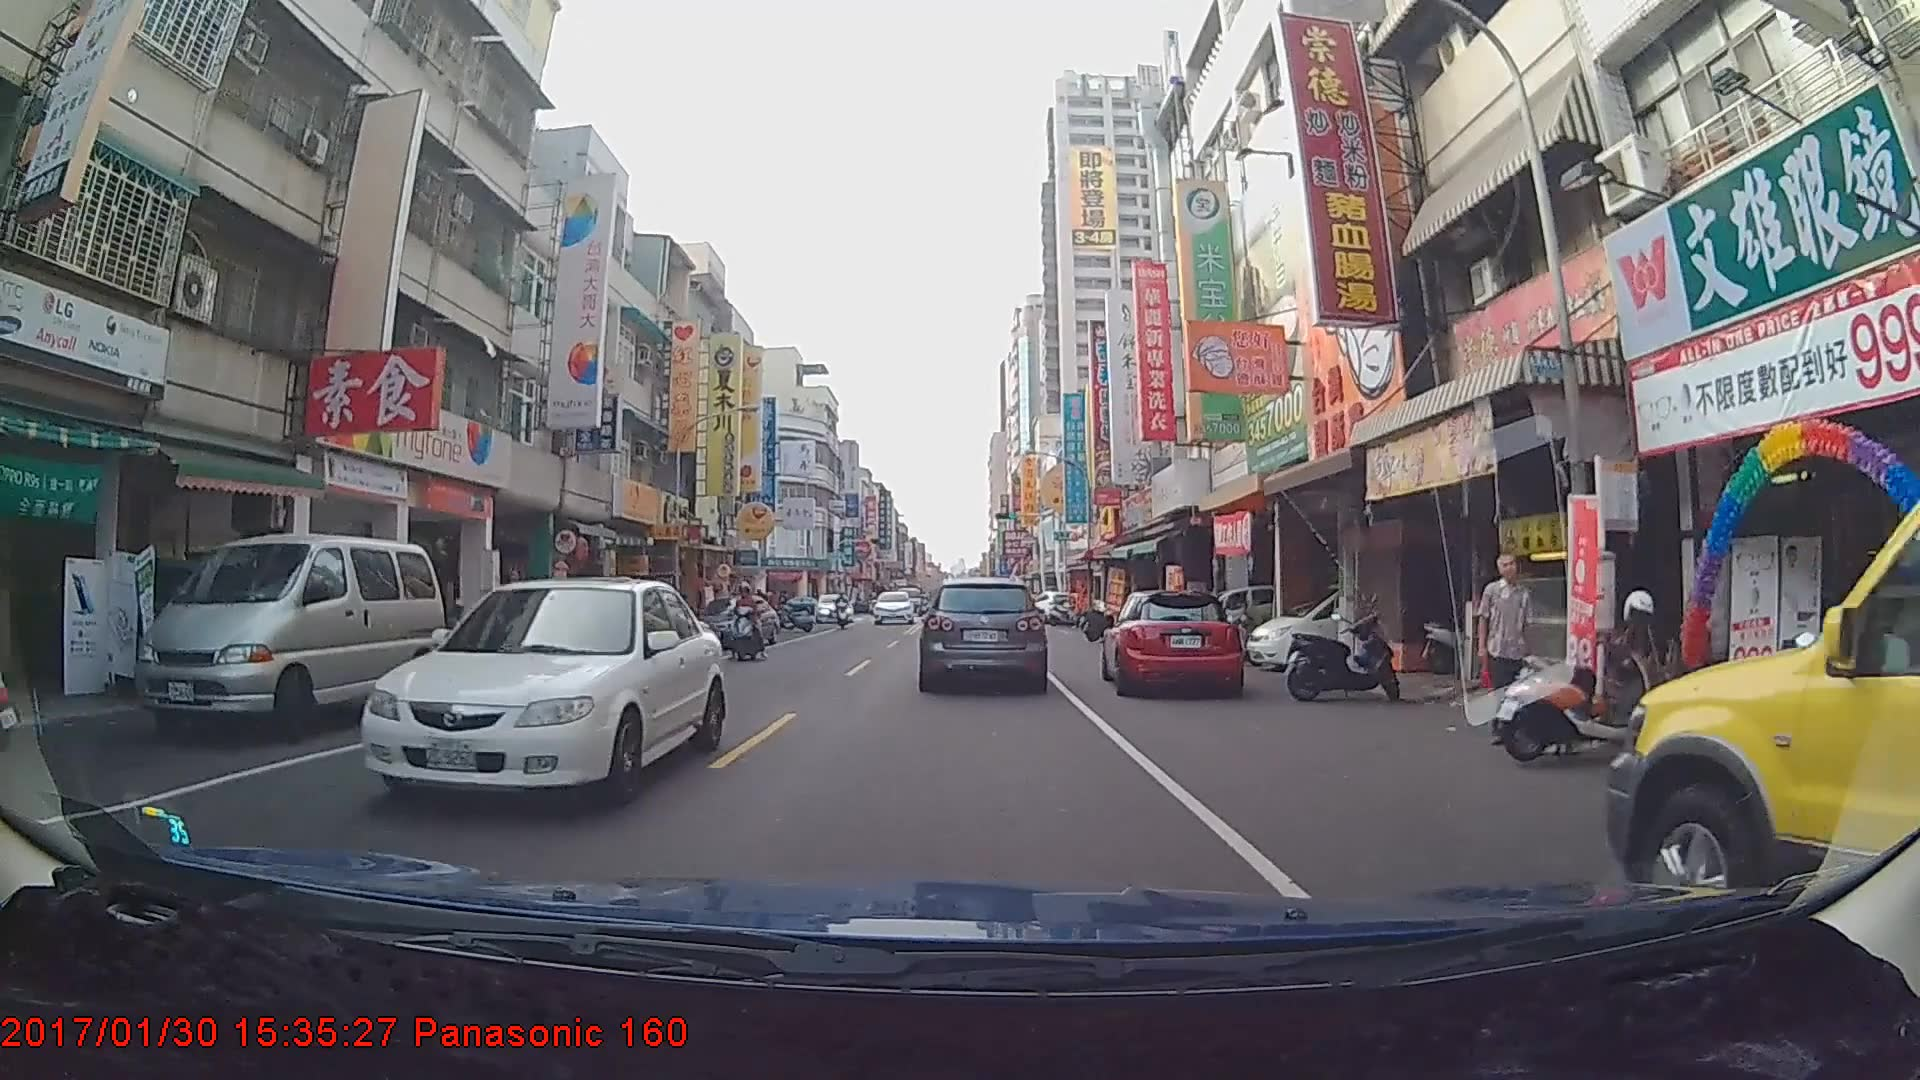pedestrian: (1478, 553, 1540, 747)
rider: (727, 578, 773, 655)
vehicle: (1610, 433, 1919, 999), (351, 571, 725, 814), (130, 529, 444, 741), (1105, 587, 1244, 697), (920, 574, 1046, 689), (685, 594, 776, 650), (869, 583, 913, 618), (812, 588, 852, 619)
